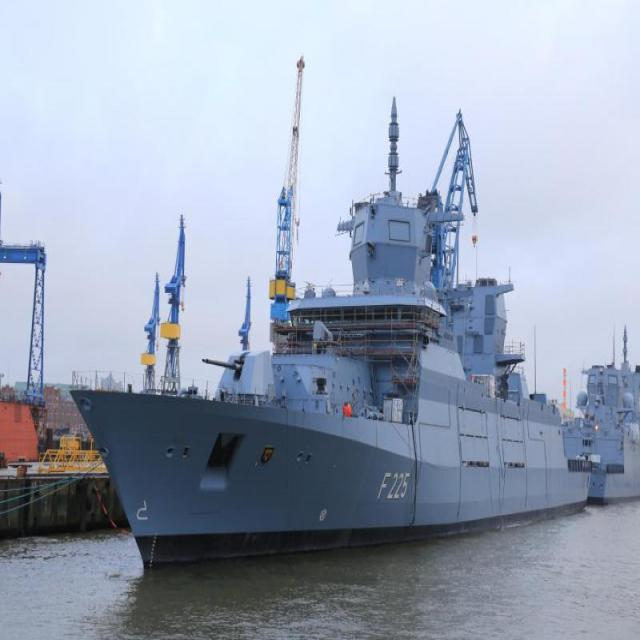Fragata: (69, 85, 598, 579)
